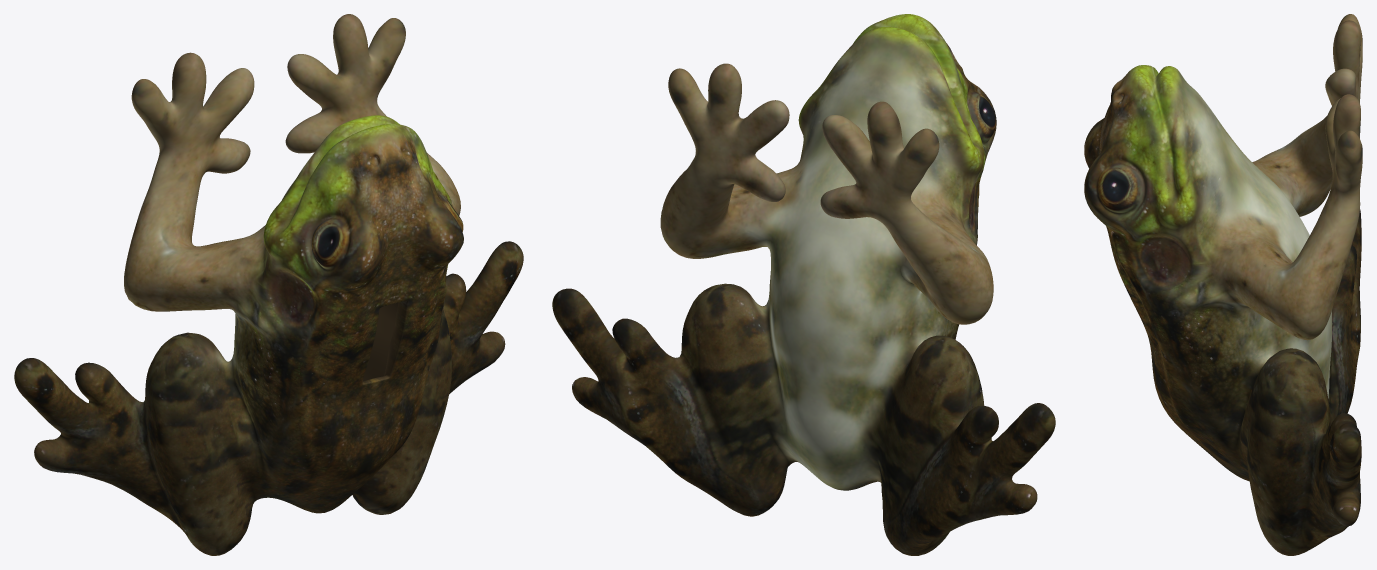
The model's file is 20436_Frog_v1 textured.obj.
3 renders of one model, left to right at view 1: azimuth 30°, elevation 25°; view 2: azimuth 150°, elevation 25°; view 3: azimuth 270°, elevation 25°, orthographic. The views are drawn at different scales.
Parts seen in each view (by area): view 1: 20436_Frog_v1; view 2: 20436_Frog_v1; view 3: 20436_Frog_v1.
Boxes of the visible parts, x1=… form: 20436_Frog_v1: x1=14, y1=14, x2=523, y2=555; 20436_Frog_v1: x1=552, y1=14, x2=1055, y2=555; 20436_Frog_v1: x1=1084, y1=14, x2=1362, y2=555.
Bounding box in the file's own units: 19.15 × 17.26 × 9.54.
1 material, 1 textured.
